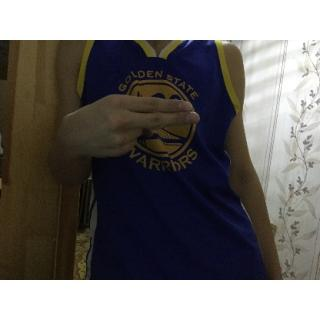AYN: (53, 90, 208, 165)
